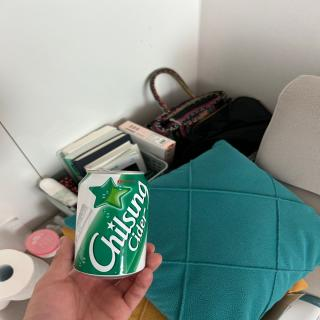cocacola: (72, 164, 150, 282)
